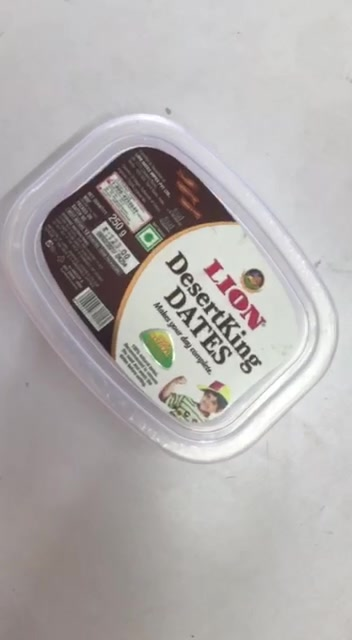Lion dates: (1, 112, 338, 463)
